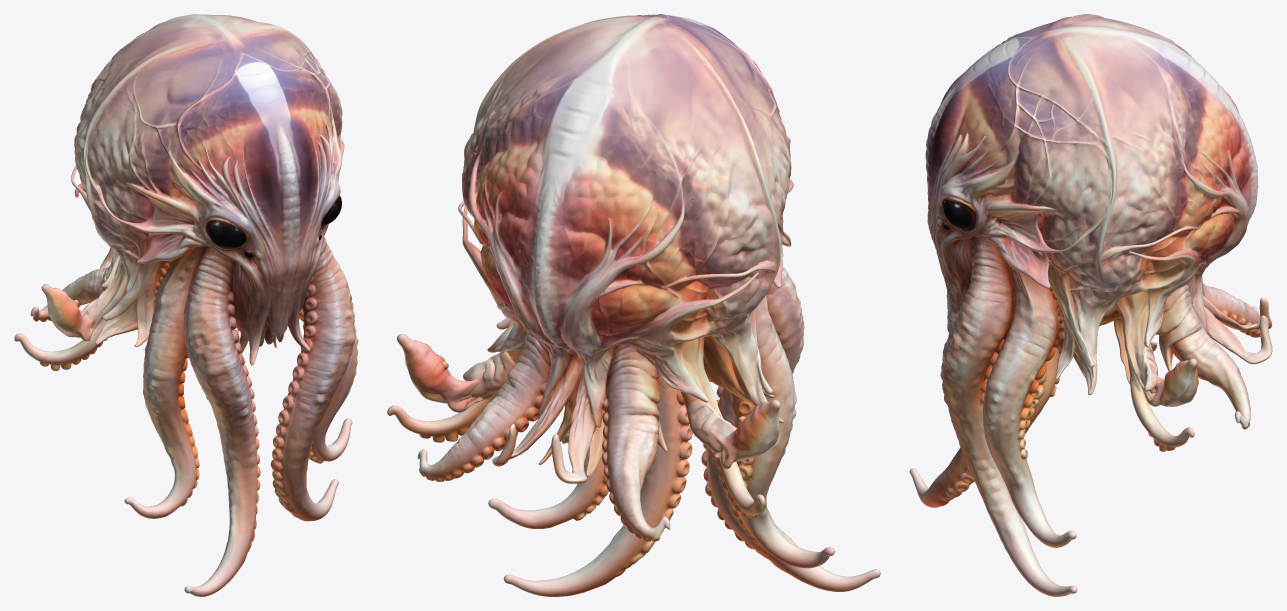
Rendered from eph4.glb.
3 renders of one model, left to right at view 1: azimuth 30°, elevation 25°; view 2: azimuth 150°, elevation 25°; view 3: azimuth 270°, elevation 25°, orthographic. The views are drawn at different scales.
Visible parts, largest first — view 1: tripo_node_51bfcd4d-12e6-460b-8253-1e4dafc6df7c; view 2: tripo_node_51bfcd4d-12e6-460b-8253-1e4dafc6df7c; view 3: tripo_node_51bfcd4d-12e6-460b-8253-1e4dafc6df7c.
Boxes of the visible parts, x1,y1,x2,y2 form: tripo_node_51bfcd4d-12e6-460b-8253-1e4dafc6df7c: [14, 14, 358, 596]; tripo_node_51bfcd4d-12e6-460b-8253-1e4dafc6df7c: [387, 14, 880, 596]; tripo_node_51bfcd4d-12e6-460b-8253-1e4dafc6df7c: [909, 14, 1272, 596].
Size of the model in its own units: 0.6327 by 0.98 by 0.617.
Materials: 1 (1 with a texture image).
